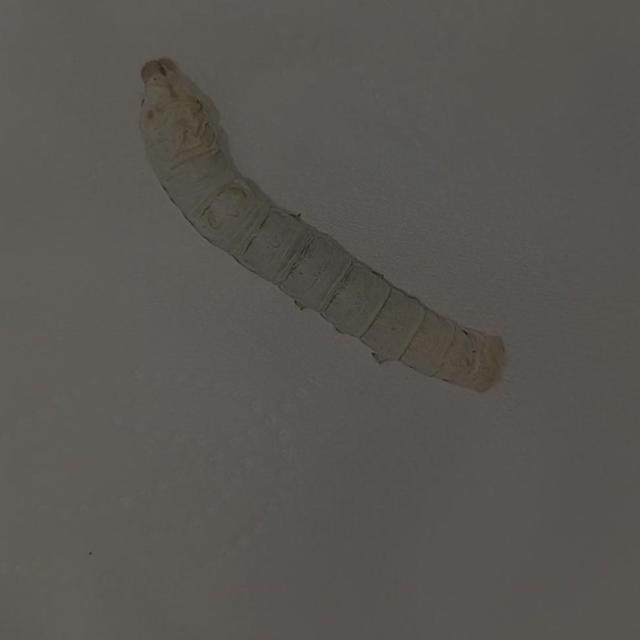Healthy: (113, 33, 532, 401)
